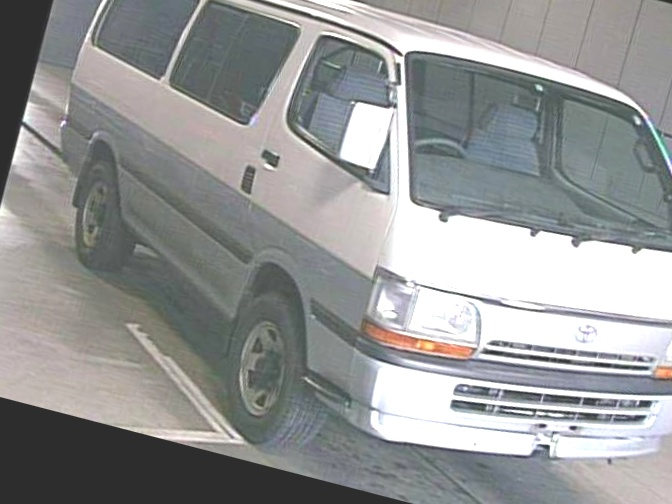van: (6, 0, 672, 504)
